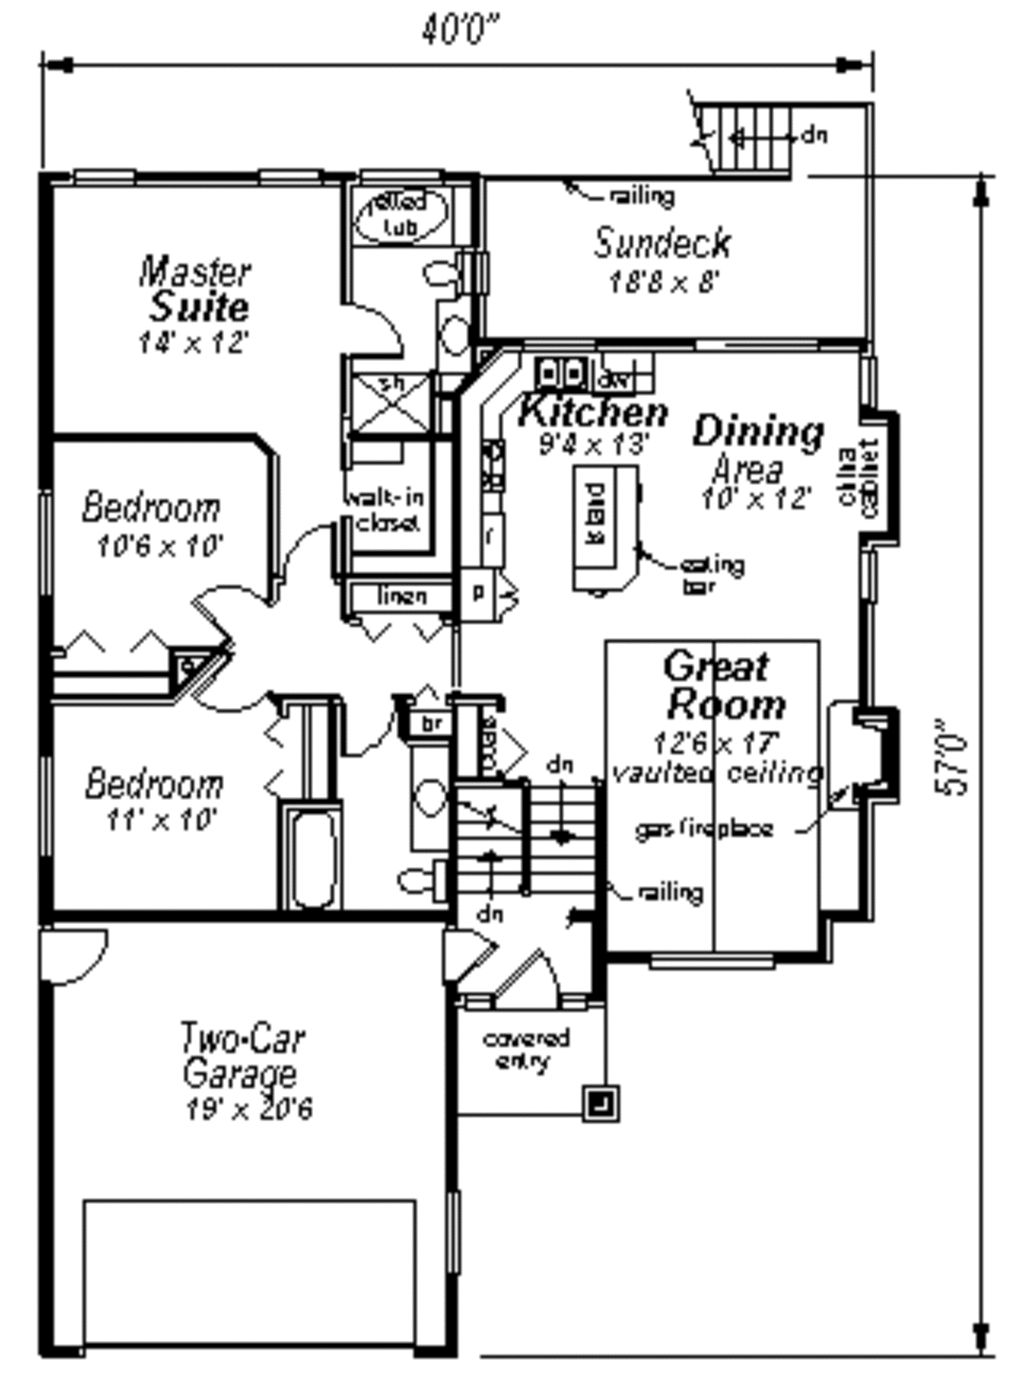door: (183, 572, 276, 655), (185, 652, 278, 720), (328, 283, 402, 352), (500, 944, 567, 1015), (339, 700, 413, 763), (43, 924, 117, 985), (276, 518, 339, 589), (435, 924, 496, 992)
kitchen_bar: (555, 448, 661, 600)
large_sink: (420, 237, 502, 289), (396, 861, 450, 905)
small_sink: (413, 742, 450, 855), (437, 298, 476, 378)
stairs: (454, 785, 593, 933), (687, 89, 885, 183)
tub: (273, 791, 357, 920)
twin_sink: (517, 346, 591, 407)
window: (639, 935, 778, 985), (28, 752, 72, 868), (28, 474, 67, 602), (693, 324, 822, 361), (433, 1189, 483, 1281), (67, 155, 152, 205), (846, 542, 890, 626), (259, 162, 333, 198)
